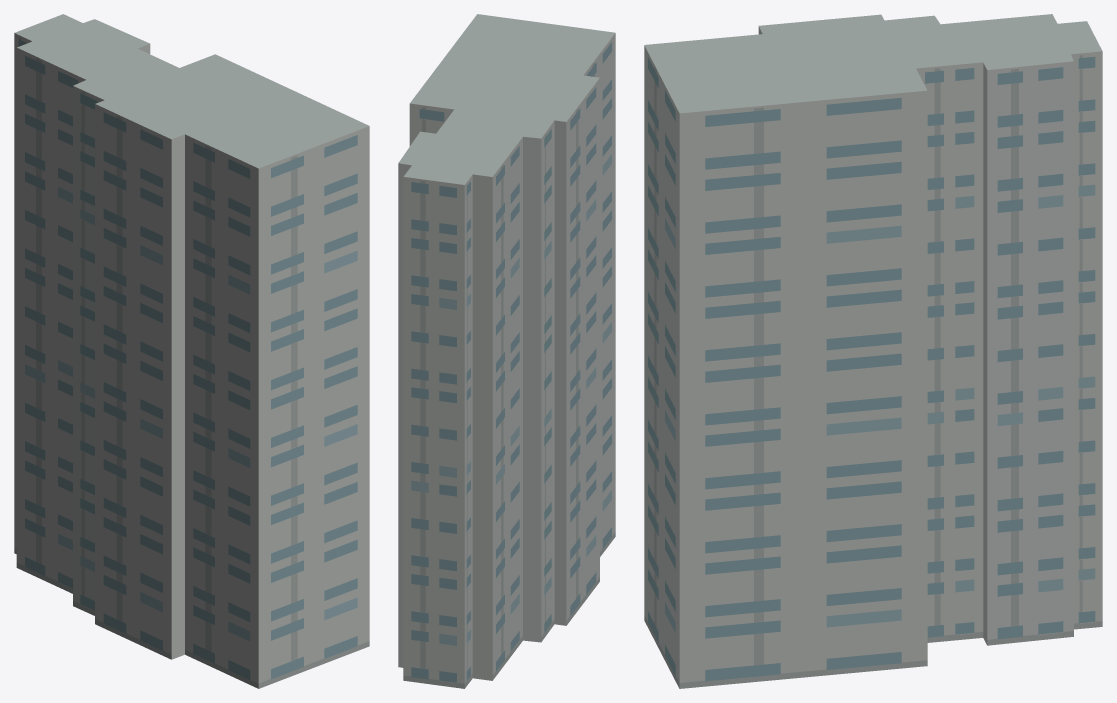
File: residential-ecce1d73-6977-4d11-a6c8-50015a5da59c.glb
3 views of the same model, side by side, from view 1: azimuth 30°, elevation 25°; view 2: azimuth 150°, elevation 25°; view 3: azimuth 270°, elevation 25° (orthographic). The views are drawn at different scales.
Parts seen in each view (by area): view 1: residential-ecce1d73-6977-4d11-a6c8-50015a5da59c.tmp; view 2: residential-ecce1d73-6977-4d11-a6c8-50015a5da59c.tmp; view 3: residential-ecce1d73-6977-4d11-a6c8-50015a5da59c.tmp.
Part boxes in pixels (x1,y1,x2,y2): residential-ecce1d73-6977-4d11-a6c8-50015a5da59c.tmp: (14, 14, 369, 688); residential-ecce1d73-6977-4d11-a6c8-50015a5da59c.tmp: (398, 14, 615, 688); residential-ecce1d73-6977-4d11-a6c8-50015a5da59c.tmp: (644, 14, 1102, 688).
Bounding box in the file's own units: 27.81 × 75 × 54.16.
